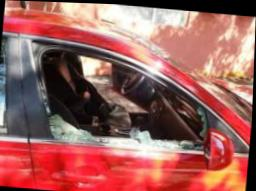Door: (3, 29, 248, 180)
